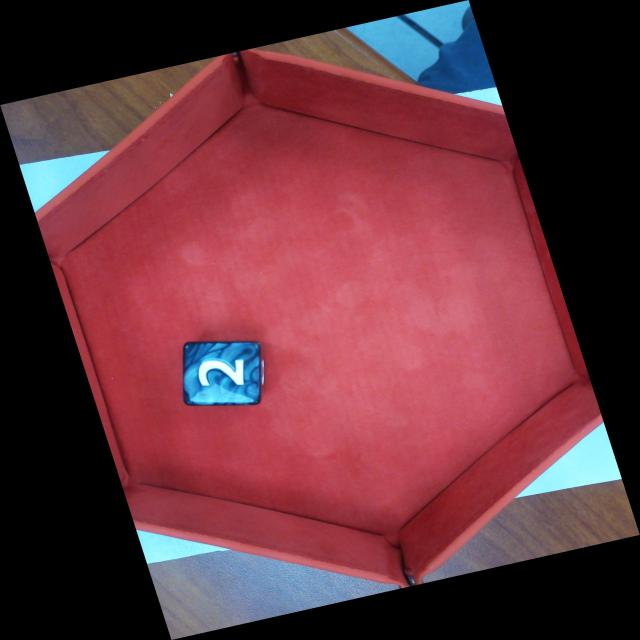dice: (180, 341, 264, 408)
